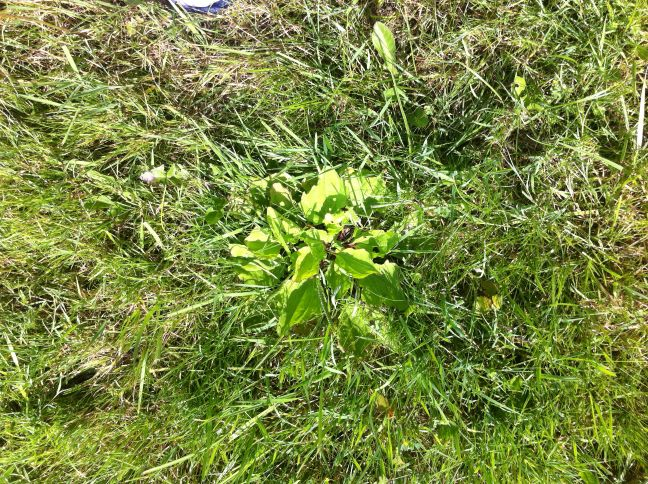weed1: (230, 164, 403, 341)
